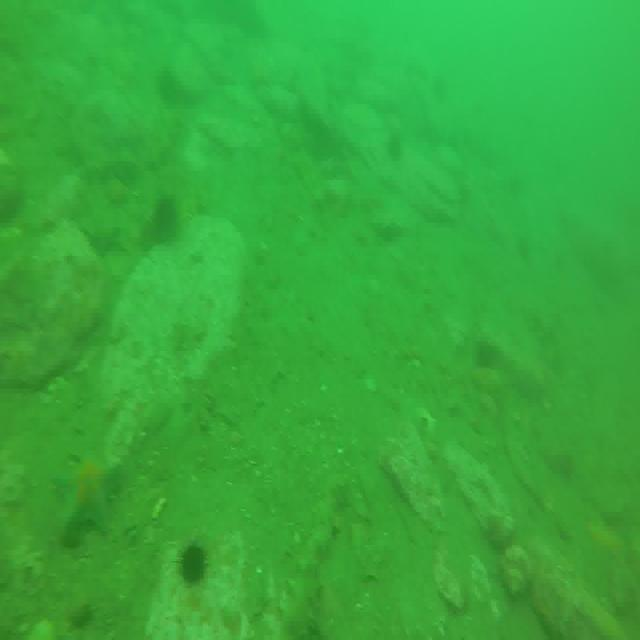echinus: (150, 196, 181, 241), (179, 542, 207, 579), (155, 65, 178, 101), (384, 130, 404, 167), (476, 338, 493, 376)
holothurian: (278, 548, 324, 640)
starfish: (54, 453, 122, 535), (81, 212, 128, 258)
